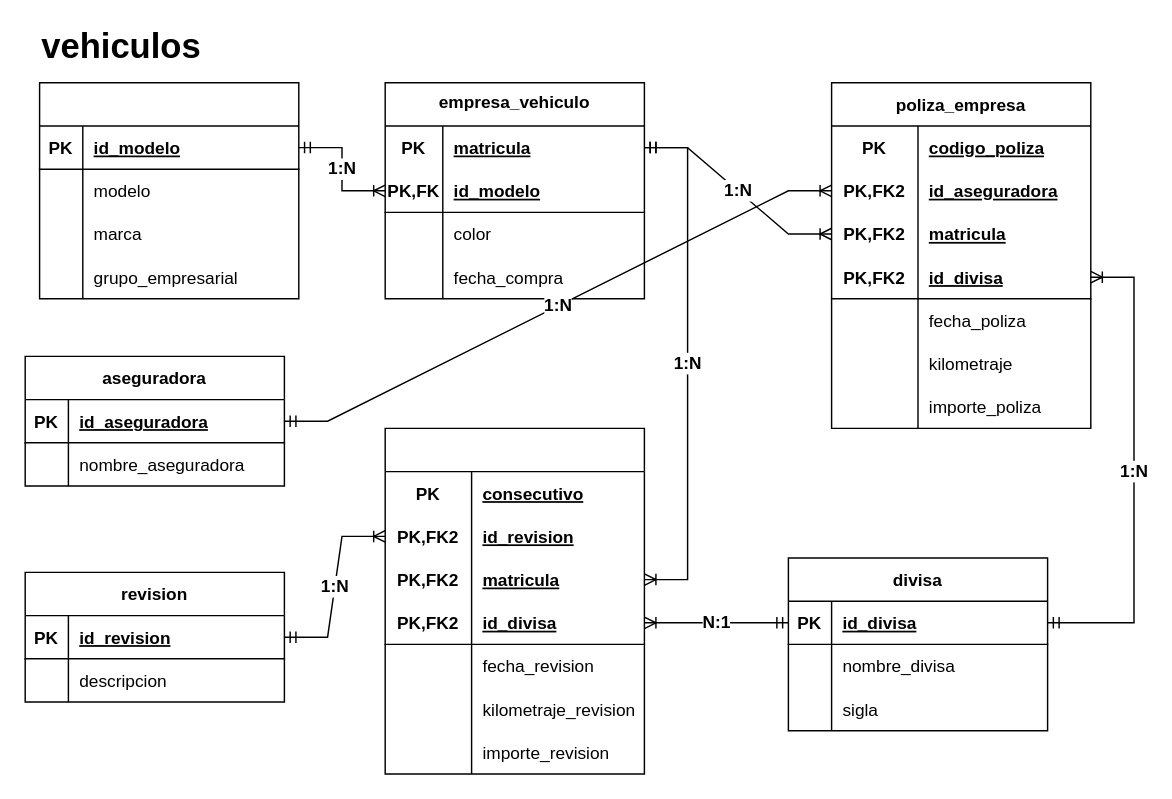
Image size: 1172x799. Some labels were removed from this diagram. The box of each missing label's shape, as (x1, y1, x2, y2) in pixels:
empresa_revision: (384, 427, 644, 774)
fabricante_vehiculo: (38, 81, 299, 299)
